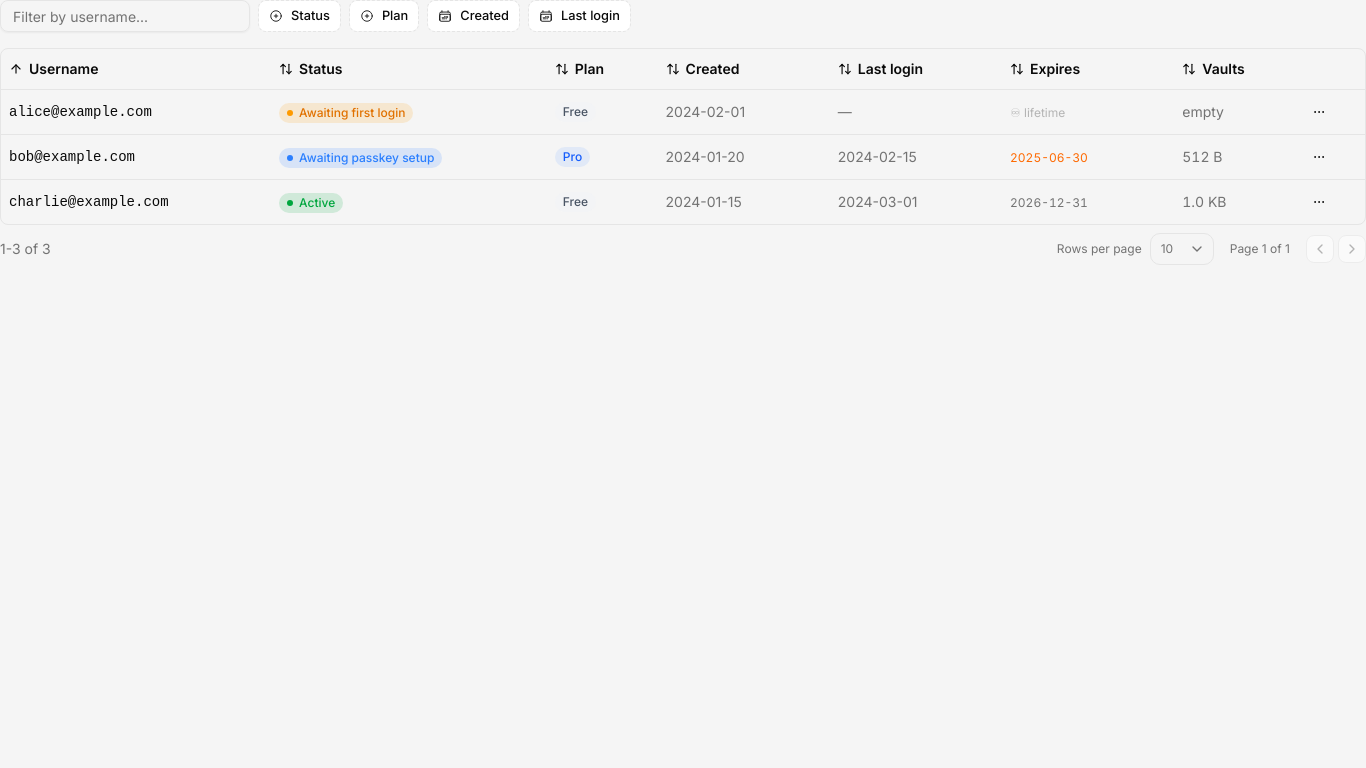
Scenario: UserList › reset button clears plan filter
The image size is (1366, 768).
Click the button with aria-label "filter by plan". click: (384, 16)
box: [349,0,419,32]
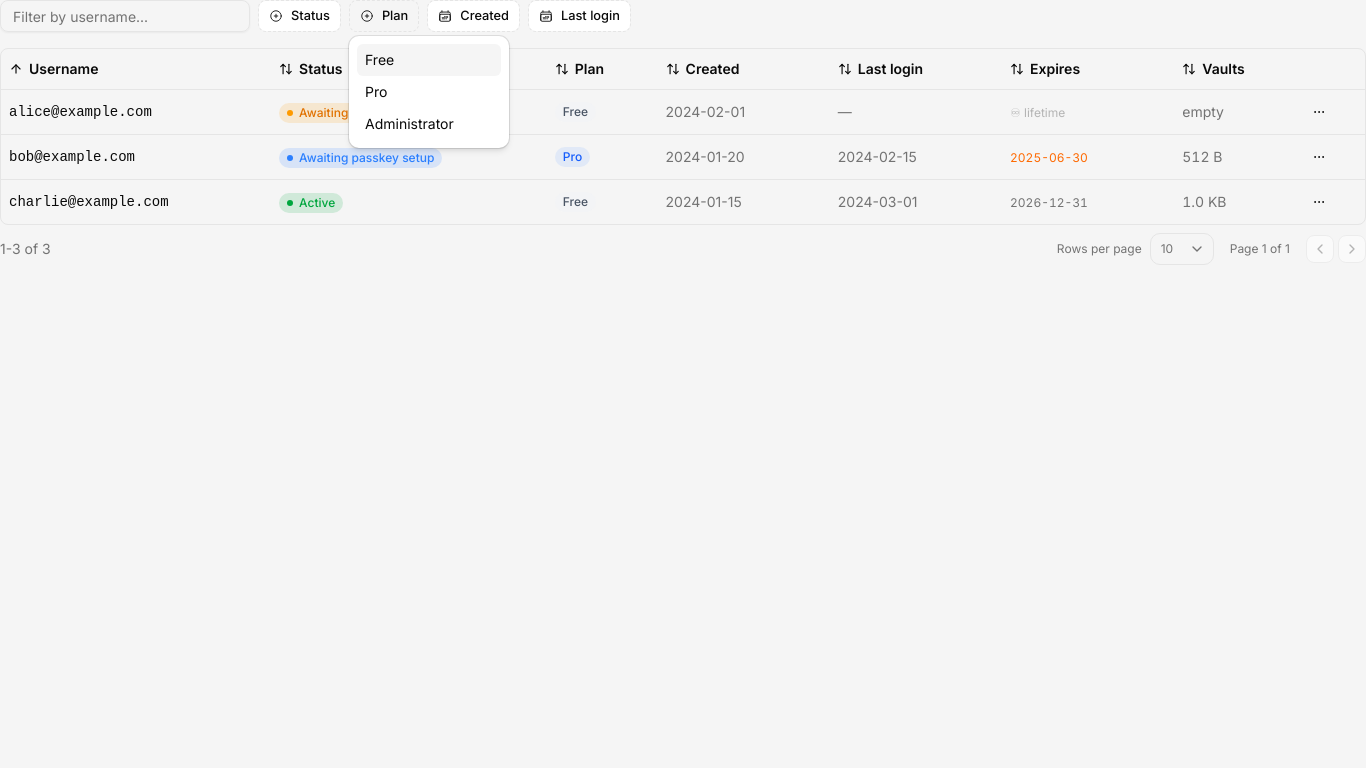
Click the option "Pro". click: (376, 92)
box: [365,83,387,100]
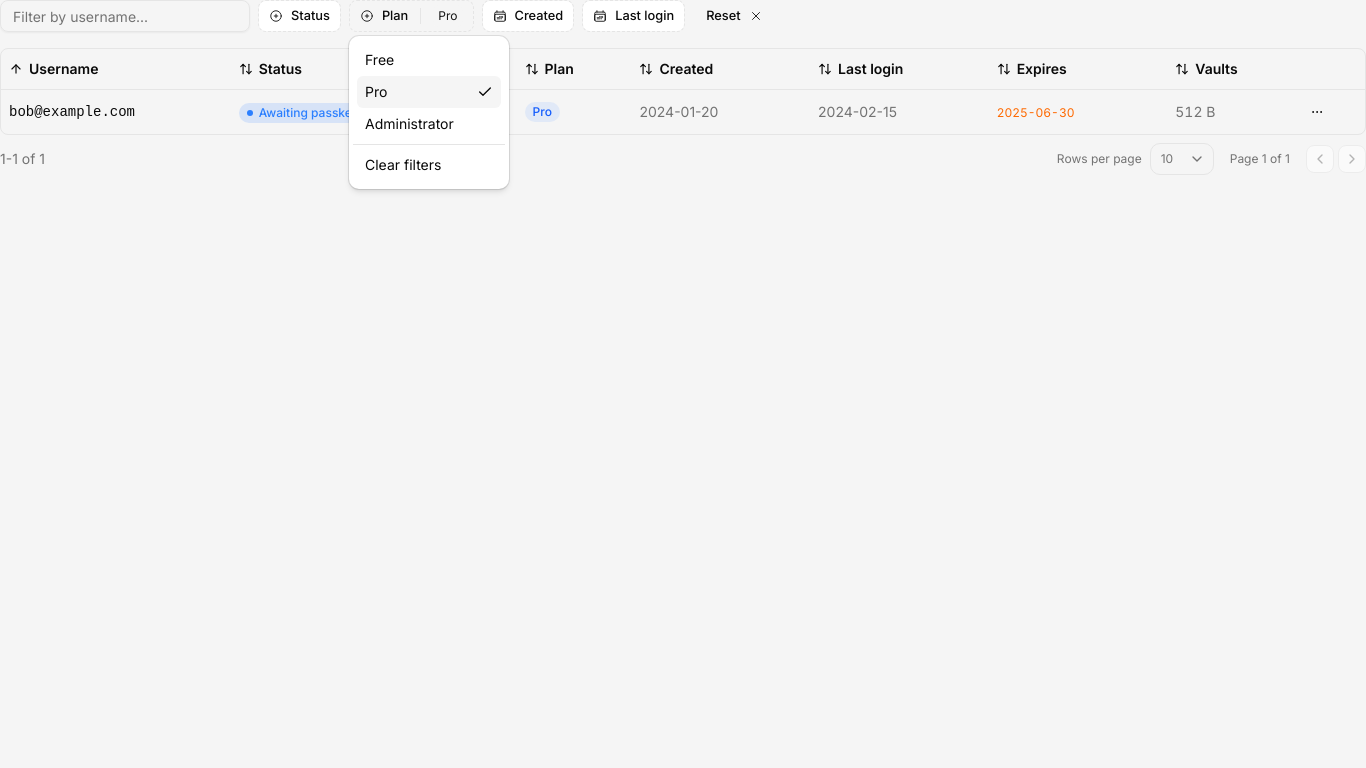
Press Escape
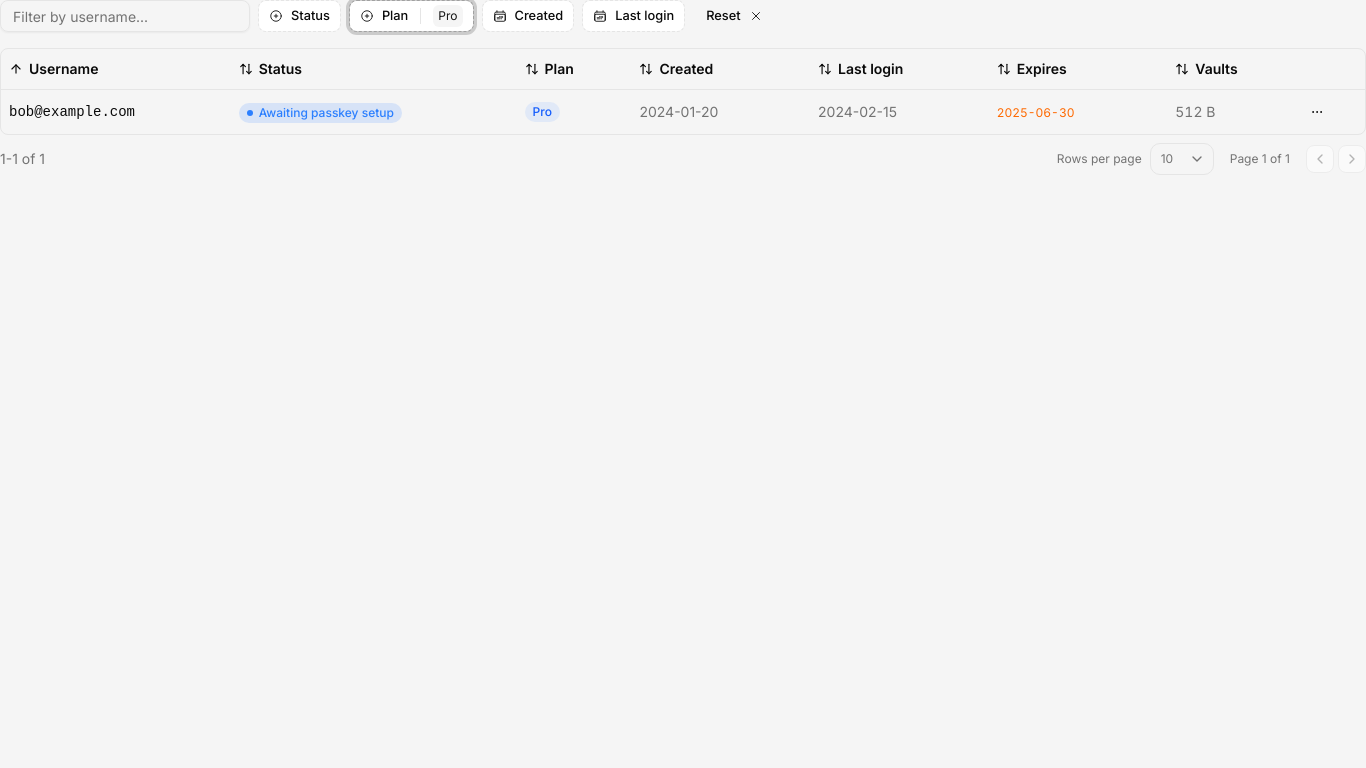
Click the button "Reset". click: (734, 16)
box: [693,0,776,32]
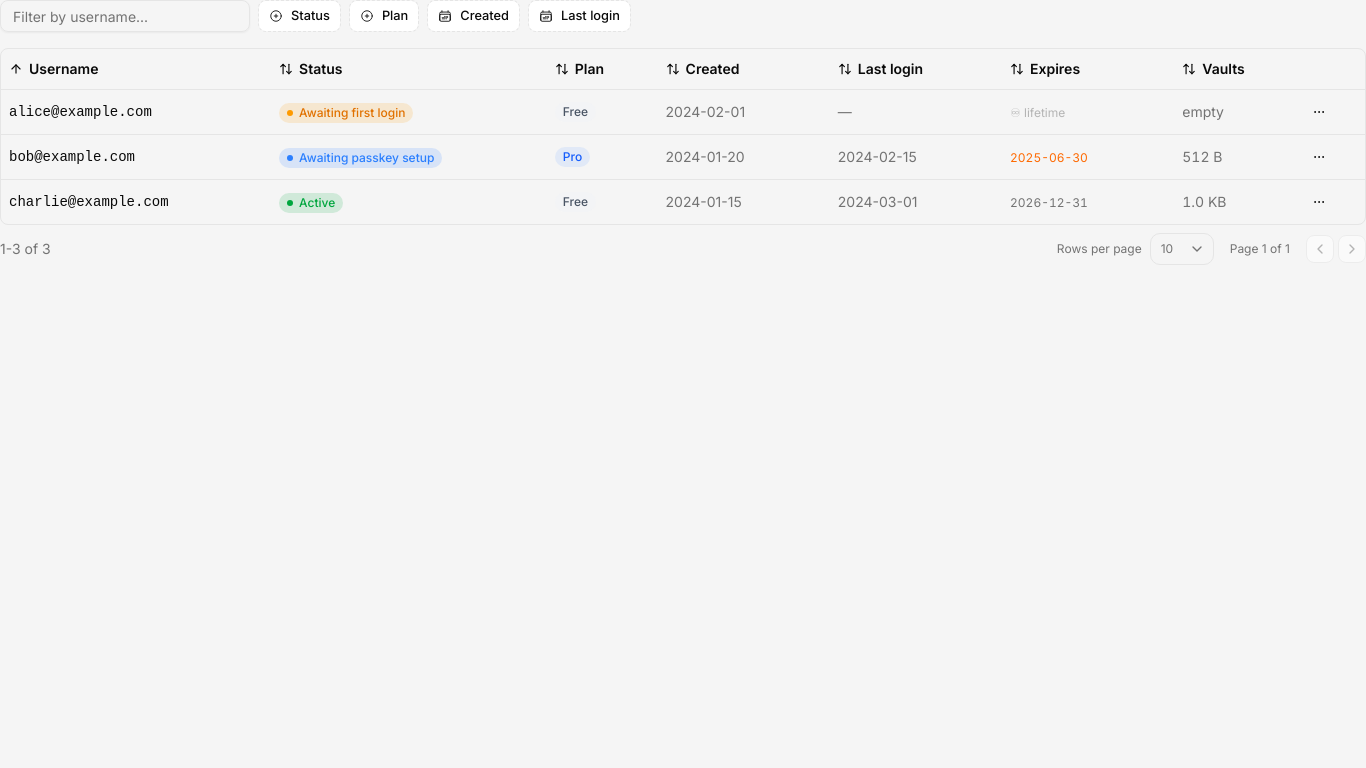
Expected: the text "bob@example.com" is shown, [9,149,135,165]
Expected: the text "alice@example.com" is shown, [9,104,152,120]
Expected: the text "charlie@example.com" is shown, [9,194,169,210]
